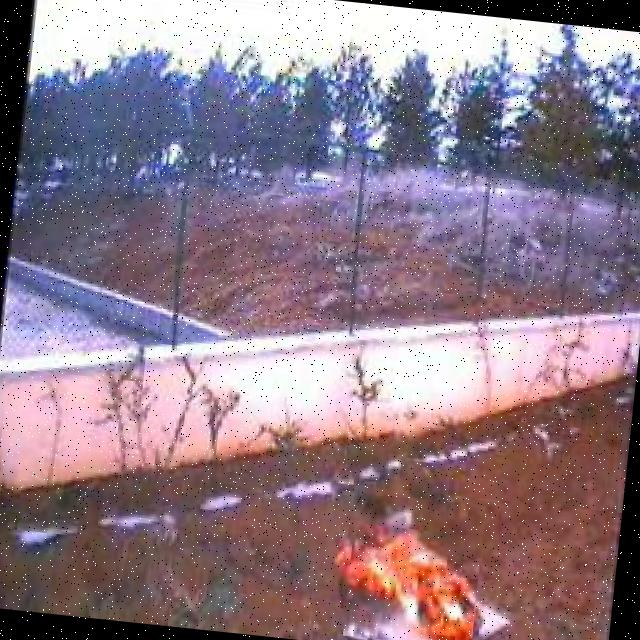fire: (326, 490, 485, 640)
